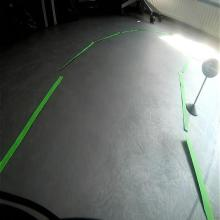left: (201, 57, 219, 79)
